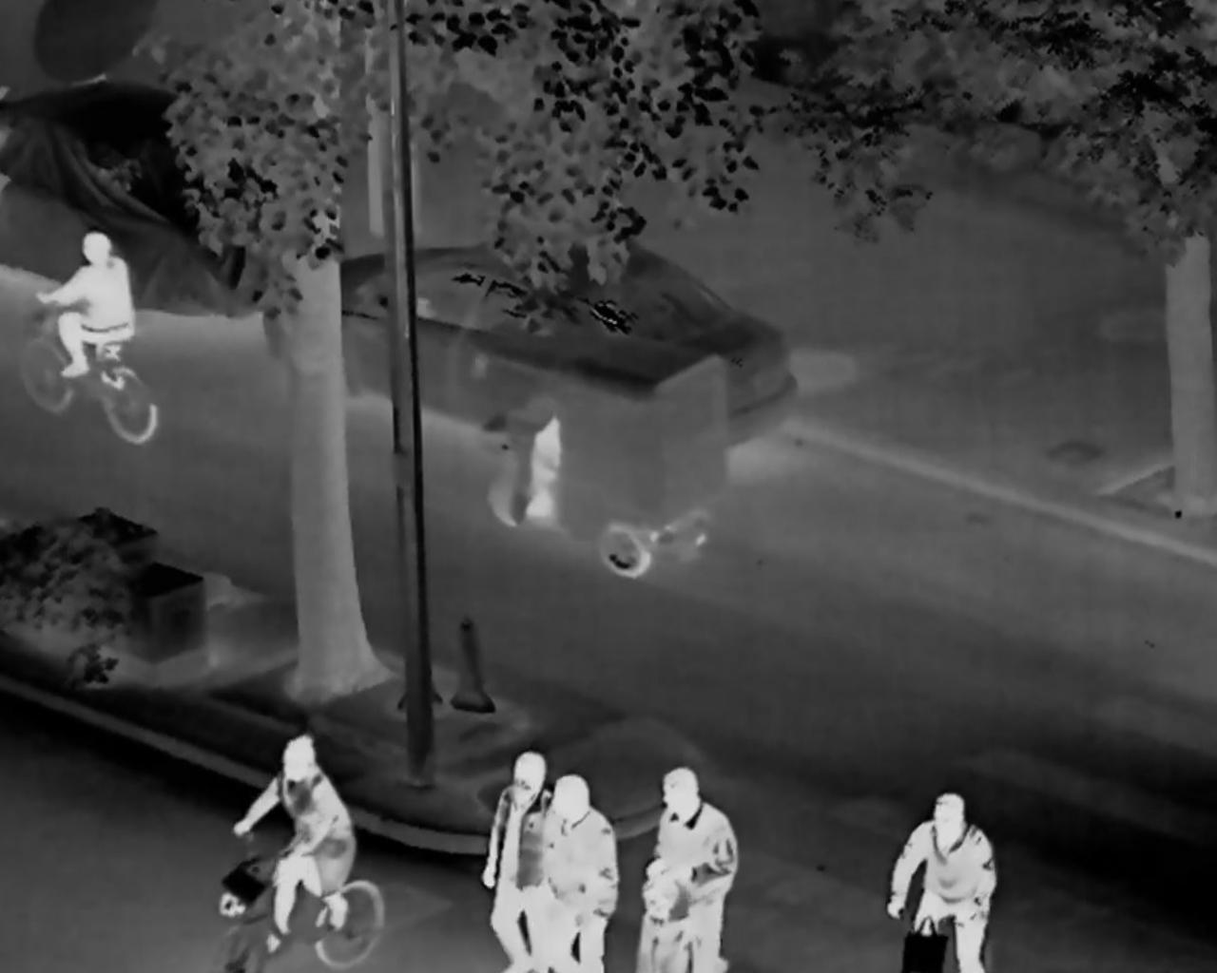person: (227, 735, 355, 956), (881, 791, 997, 973), (643, 767, 735, 973), (478, 752, 555, 973), (37, 227, 140, 388), (538, 773, 618, 971), (629, 876, 691, 973)
